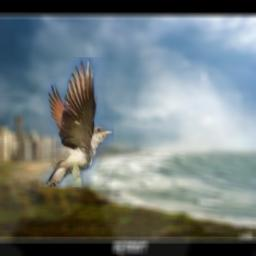Cuckoo: (5, 57, 114, 187)
